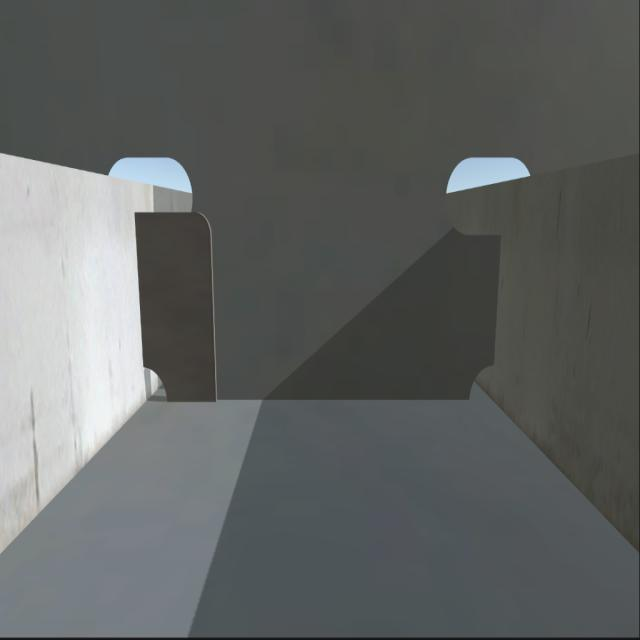fillet_hole: (465, 363, 498, 404), (136, 363, 169, 402)
fillet_yong_jeop_jang: (166, 392, 466, 406)
longi_yong_jeop_jang: (130, 214, 144, 365), (490, 236, 504, 362)
plate_CP05: (139, 207, 212, 392)
